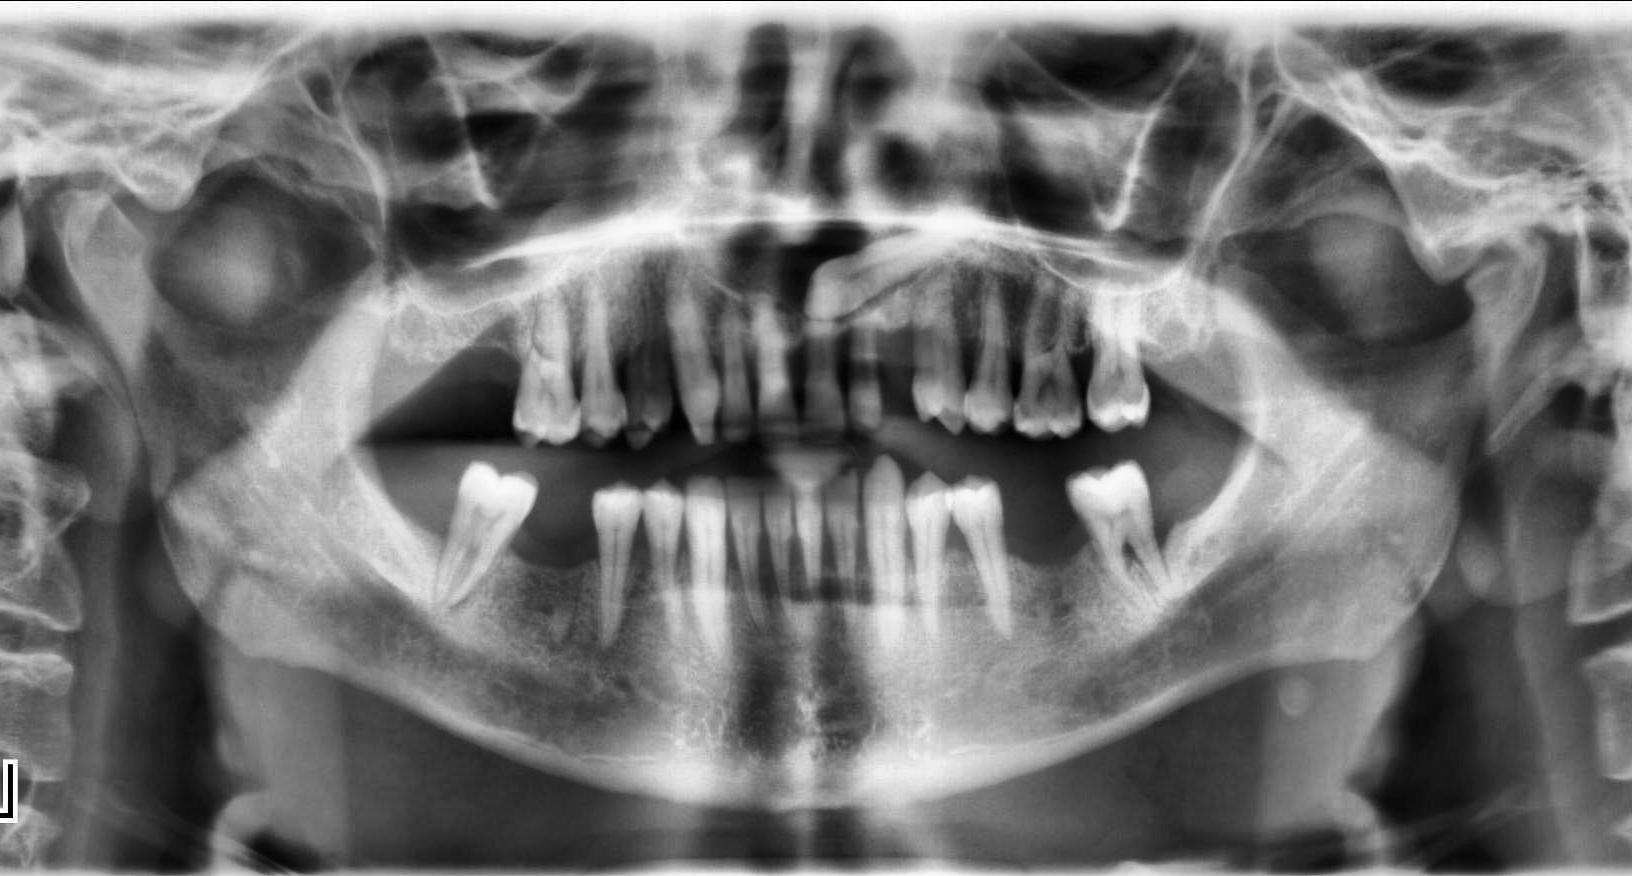keratokist: (673, 187, 930, 325)
